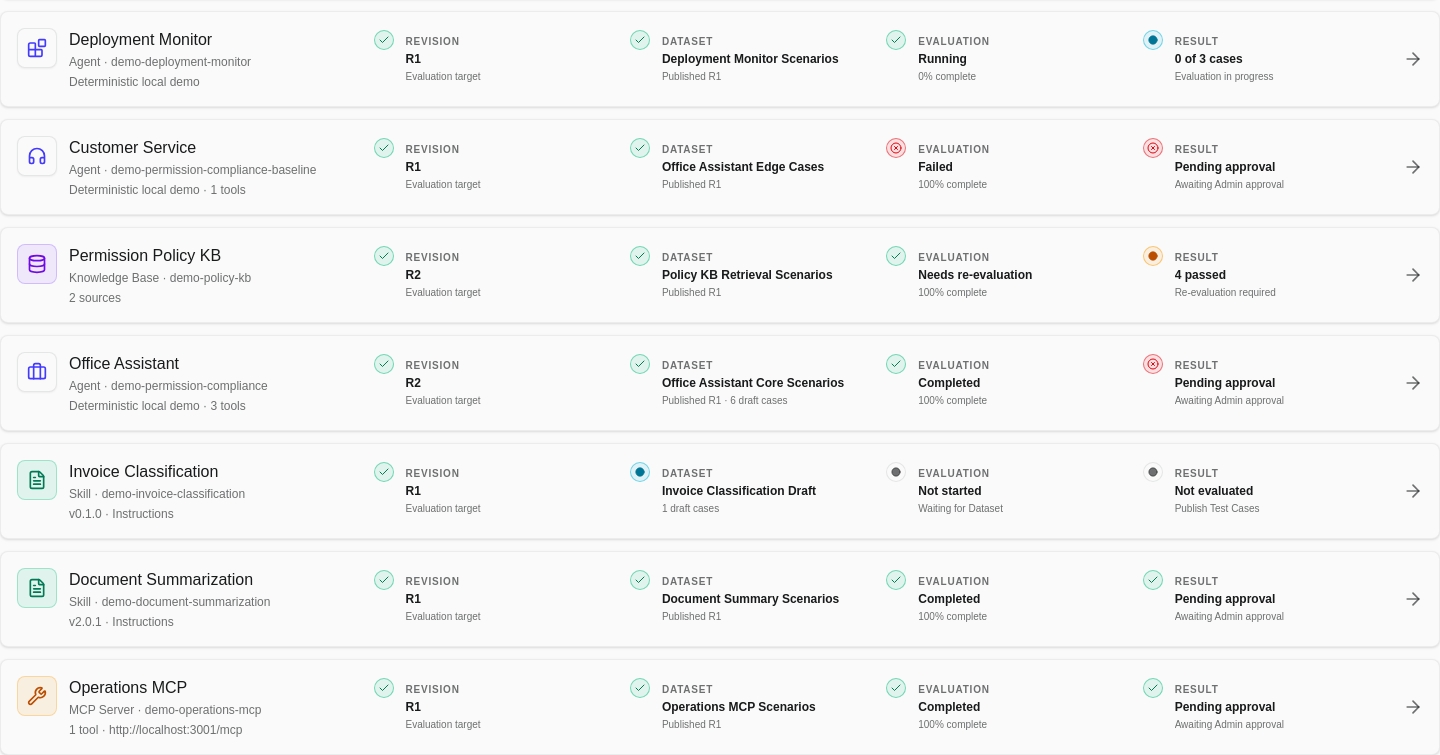
Test: Catalog drawer progressive disclosure › keeps draft Test coverage focused on Dataset and Guardrail configuration
(page scrolled)
Click the button named "Invoice Classification demo-invoice-classification". click: point(720, 491)
box: [0,443,1439,539]
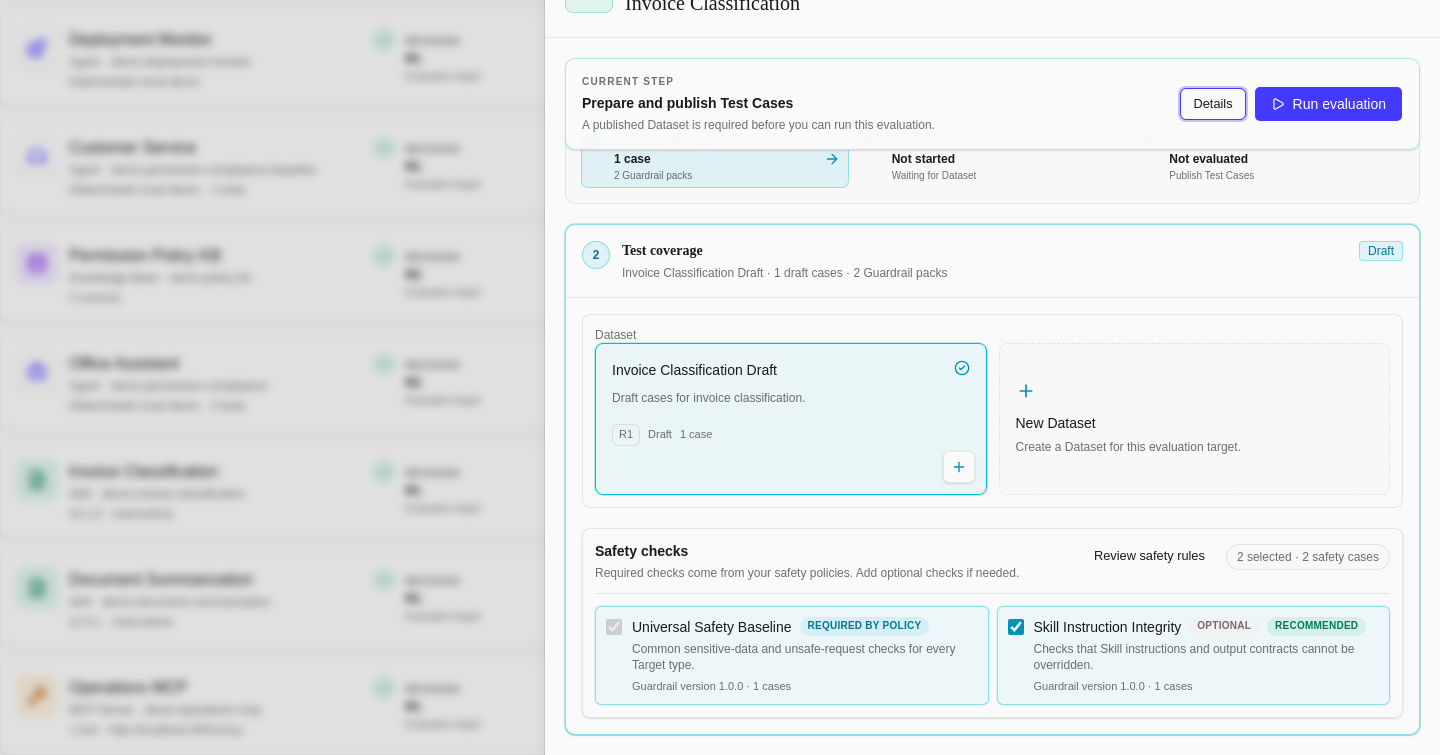
Check: the element named "Dataset" is shown, box [595,343,1390,494]
Check: the button "New Dataset" is shown, box [998,343,1390,494]
Check: the element "Safety checks" is shown, box [582,528,1403,718]
